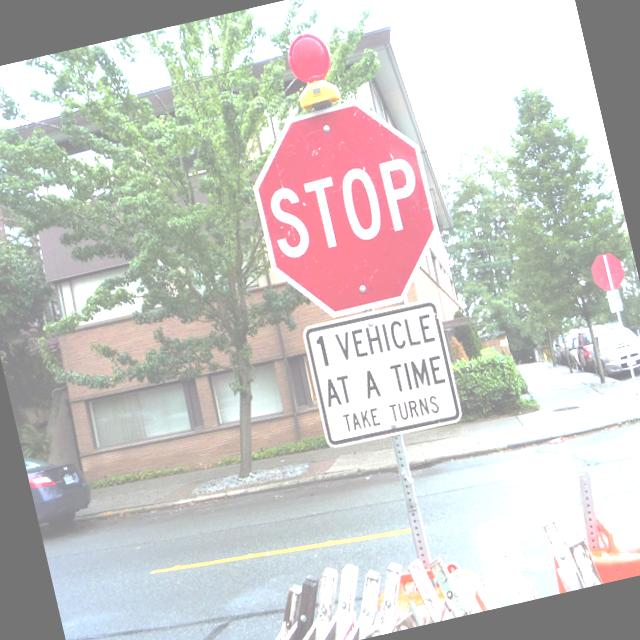Vehicle: (22, 441, 98, 530), (584, 321, 640, 384), (569, 322, 618, 369), (551, 327, 585, 368)
